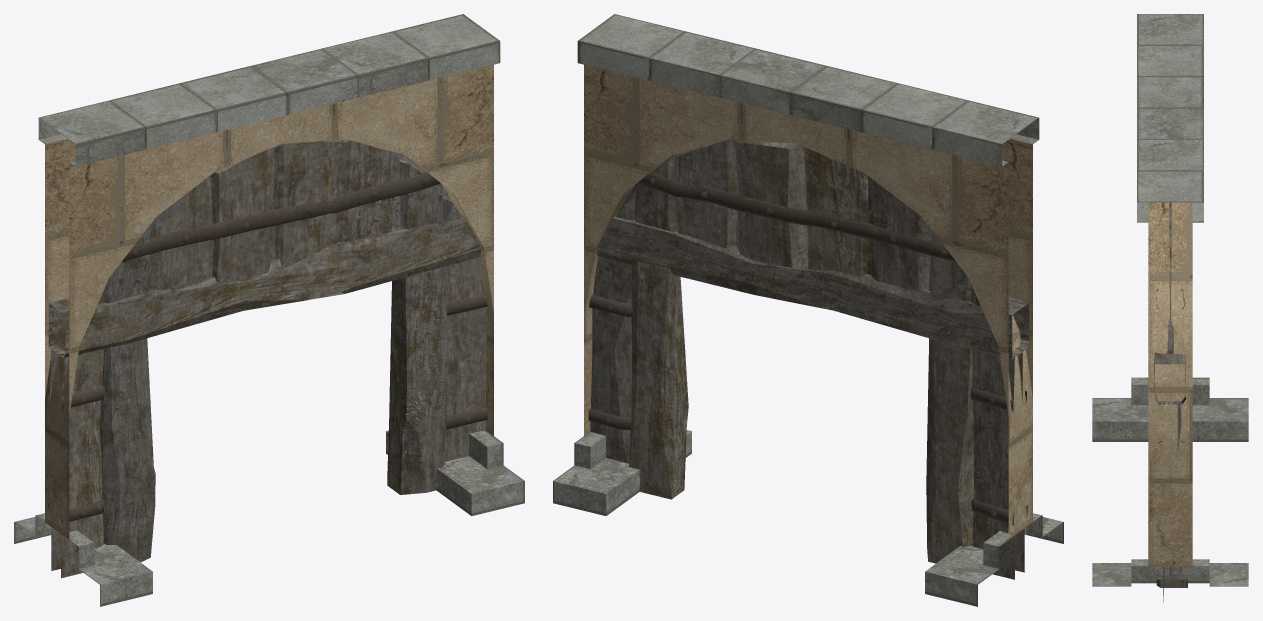
File: arch_beams_2U.fbx
3 views of the same model, side by side, from view 1: azimuth 30°, elevation 25°; view 2: azimuth 150°, elevation 25°; view 3: azimuth 270°, elevation 25° (orthographic). The views are drawn at different scales.
Visible parts, largest first — view 1: arch_beams_2U; view 2: arch_beams_2U; view 3: arch_beams_2U.
Boxes of the visible parts, x1,y1,x2,y2 form: arch_beams_2U: [14, 14, 524, 606]; arch_beams_2U: [553, 14, 1063, 606]; arch_beams_2U: [1092, 14, 1248, 602].
Size of the model in its own units: 201 by 201 by 70.
